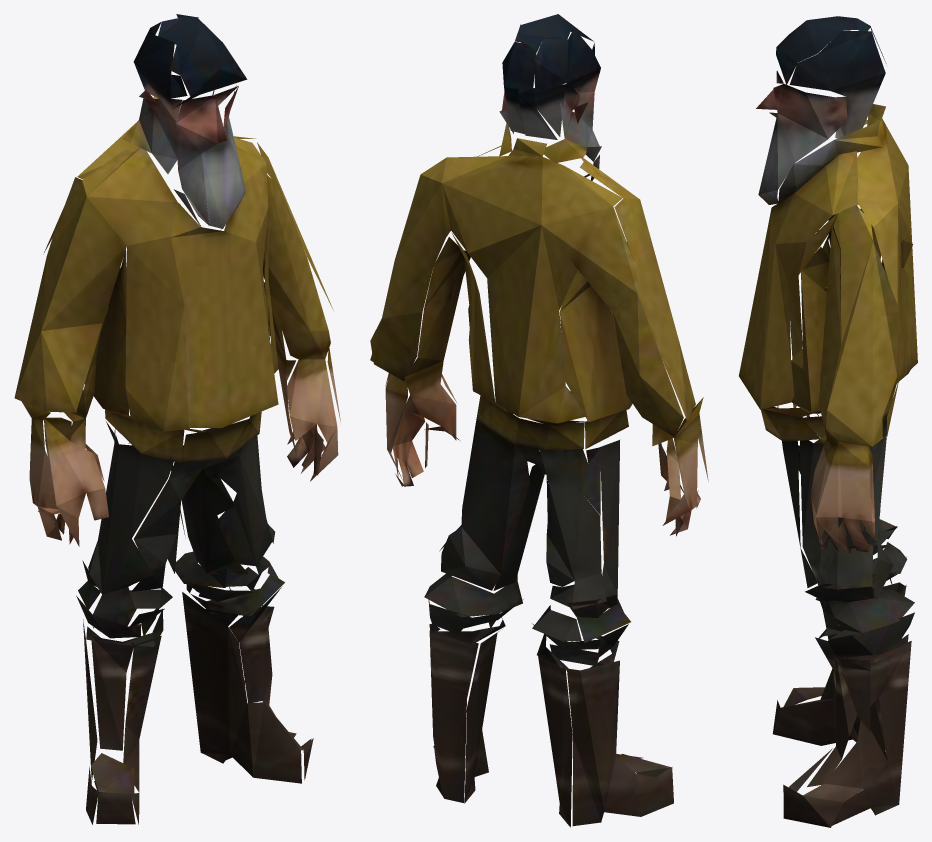
Rendered from kit_persona3.glb.
The picture shows the model from 3 angles, left to right: view 1: azimuth 30°, elevation 25°; view 2: azimuth 150°, elevation 25°; view 3: azimuth 270°, elevation 25°; orthographic projection.
Visible parts, largest first — view 1: _leggero; view 2: _leggero; view 3: _leggero.
Boxes of the visible parts, bbox=[...] form: _leggero: bbox=[14, 14, 340, 824]; _leggero: bbox=[370, 14, 708, 827]; _leggero: bbox=[739, 16, 917, 827].
Size of the model in its own units: 1.01 by 2.39 by 0.5169.
Materials: 1 (1 with a texture image).
